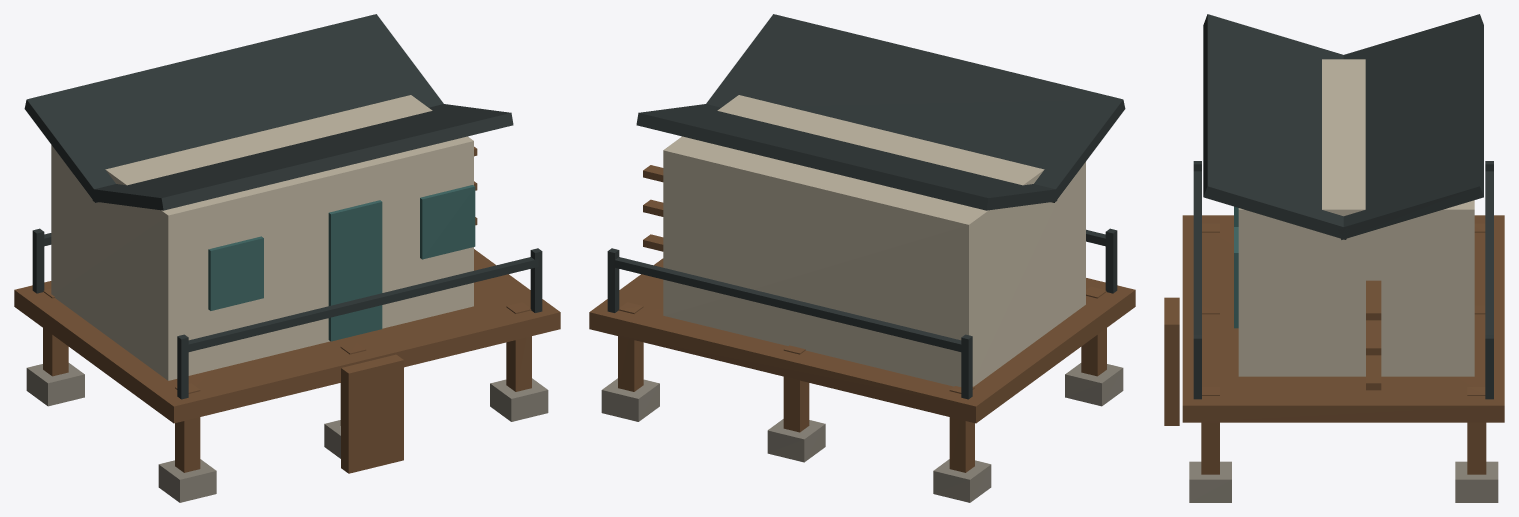
Rendered from fishing-hut.source.glb.
3 renders of one model, left to right at view 1: azimuth 30°, elevation 25°; view 2: azimuth 150°, elevation 25°; view 3: azimuth 270°, elevation 25°, orthographic.
Parts seen in each view (by area): view 1: fishing-hut-compact-gear-room-mesh, fishing-hut-shallow-pitched-roof--0.78-mesh, fishing-hut-narrow-raised-work-deck-mesh, fishing-hut-shallow-pitched-roof-0.78-mesh, fishing-hut-short-access-ladder-mesh, fishing-hut-simple-teal-door-mesh, fishing-hut-deck-safety-rail-1.7-mesh, fishing-hut-shuttered-window-1.45-mesh, fishing-hut-shuttered-window--1.42-mesh, fishing-hut-stone-footing--2.25--1.55-mesh, fishing-hut-stone-footing--2.25-1.55-mesh, fishing-hut-stone-footing-2.25-1.55-mesh (+6 smaller); view 2: fishing-hut-compact-gear-room-mesh, fishing-hut-shallow-pitched-roof-0.78-mesh, fishing-hut-narrow-raised-work-deck-mesh, fishing-hut-shallow-pitched-roof--0.78-mesh, fishing-hut-deck-safety-rail--1.7-mesh, fishing-hut-stone-footing--2.25--1.55-mesh, fishing-hut-stone-footing--2.25-1.55-mesh, fishing-hut-stone-footing-0--1.55-mesh, fishing-hut-stone-footing-2.25--1.55-mesh, fishing-hut-short-raised-post-2.25--1.55-mesh, fishing-hut-short-raised-post-0--1.55-mesh, fishing-hut-short-raised-post--2.25--1.55-mesh (+4 smaller); view 3: fishing-hut-compact-gear-room-mesh, fishing-hut-narrow-raised-work-deck-mesh, fishing-hut-shallow-pitched-roof--0.78-mesh, fishing-hut-shallow-pitched-roof-0.78-mesh, fishing-hut-short-access-ladder-mesh, fishing-hut-stone-footing-2.25--1.55-mesh, fishing-hut-stone-footing-2.25-1.55-mesh, fishing-hut-deck-safety-rail--1.7-mesh, fishing-hut-deck-safety-rail-1.7-mesh, fishing-hut-short-raised-post-2.25--1.55-mesh, fishing-hut-short-raised-post-2.25-1.55-mesh, fishing-hut-empty-exterior-rack-2.5-mesh (+5 smaller).
Boxes of the visible parts, x1,y1,x2,y2 form: fishing-hut-compact-gear-room-mesh: (51, 95, 473, 380); fishing-hut-shallow-pitched-roof--0.78-mesh: (24, 14, 443, 202); fishing-hut-narrow-raised-work-deck-mesh: (14, 249, 560, 423); fishing-hut-shallow-pitched-roof-0.78-mesh: (91, 104, 513, 210); fishing-hut-short-access-ladder-mesh: (341, 354, 403, 473); fishing-hut-simple-teal-door-mesh: (328, 200, 382, 341); fishing-hut-deck-safety-rail-1.7-mesh: (185, 257, 538, 352); fishing-hut-shuttered-window-1.45-mesh: (420, 185, 475, 259); fishing-hut-shuttered-window--1.42-mesh: (208, 236, 263, 310); fishing-hut-stone-footing--2.25--1.55-mesh: (26, 363, 84, 406); fishing-hut-stone-footing--2.25-1.55-mesh: (158, 459, 216, 502); fishing-hut-stone-footing-2.25-1.55-mesh: (490, 378, 548, 421); fishing-hut-compact-gear-room-mesh: (663, 95, 1085, 386); fishing-hut-shallow-pitched-roof-0.78-mesh: (706, 14, 1125, 202); fishing-hut-narrow-raised-work-deck-mesh: (589, 258, 1135, 423); fishing-hut-shallow-pitched-roof--0.78-mesh: (636, 104, 1057, 210); fishing-hut-deck-safety-rail--1.7-mesh: (615, 257, 964, 352); fishing-hut-stone-footing--2.25--1.55-mesh: (933, 459, 991, 502); fishing-hut-stone-footing--2.25-1.55-mesh: (1065, 363, 1123, 406); fishing-hut-stone-footing-0--1.55-mesh: (767, 419, 825, 462); fishing-hut-stone-footing-2.25--1.55-mesh: (601, 378, 659, 421); fishing-hut-short-raised-post-2.25--1.55-mesh: (618, 302, 643, 391); fishing-hut-short-raised-post-0--1.55-mesh: (783, 345, 809, 432); fishing-hut-short-raised-post--2.25--1.55-mesh: (949, 386, 974, 472); fishing-hut-compact-gear-room-mesh: (1238, 59, 1474, 376); fishing-hut-narrow-raised-work-deck-mesh: (1182, 215, 1504, 422); fishing-hut-shallow-pitched-roof--0.78-mesh: (1337, 14, 1483, 239); fishing-hut-shallow-pitched-roof-0.78-mesh: (1203, 14, 1349, 239); fishing-hut-short-access-ladder-mesh: (1164, 297, 1179, 425); fishing-hut-stone-footing-2.25--1.55-mesh: (1455, 461, 1498, 502); fishing-hut-stone-footing-2.25-1.55-mesh: (1189, 461, 1231, 502); fishing-hut-deck-safety-rail--1.7-mesh: (1485, 171, 1493, 334); fishing-hut-deck-safety-rail-1.7-mesh: (1193, 171, 1201, 334); fishing-hut-short-raised-post-2.25--1.55-mesh: (1467, 387, 1486, 474); fishing-hut-short-raised-post-2.25-1.55-mesh: (1201, 387, 1219, 474); fishing-hut-empty-exterior-rack-2.5-mesh: (1366, 280, 1381, 320).
Bounding box in the file's own units: 5.35 × 3.9 × 3.97.
